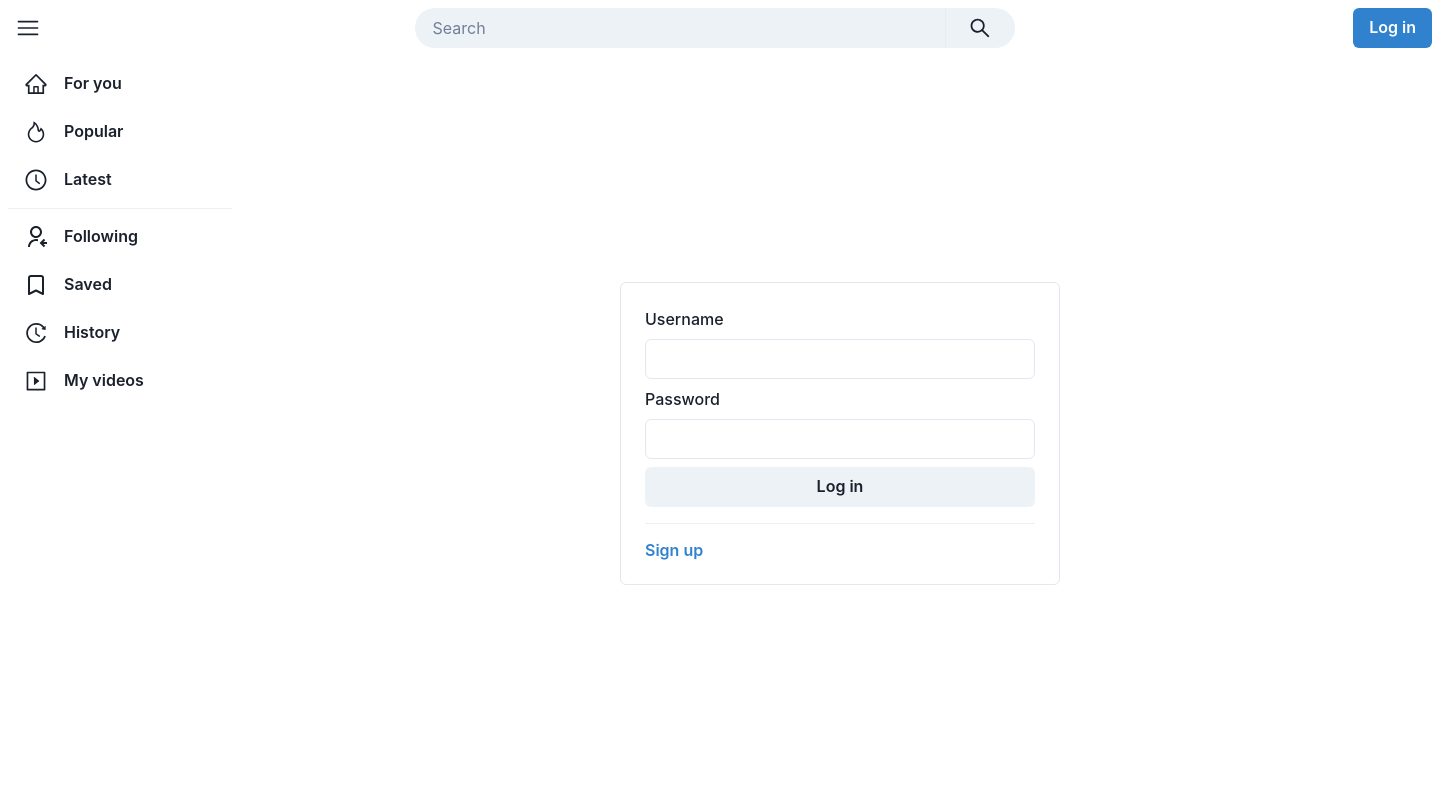
LoginPage › login form › username input › should show error message on submit if value is empty
Click the button "Log in" below "Password": (840, 486) [645,466,1035,506]
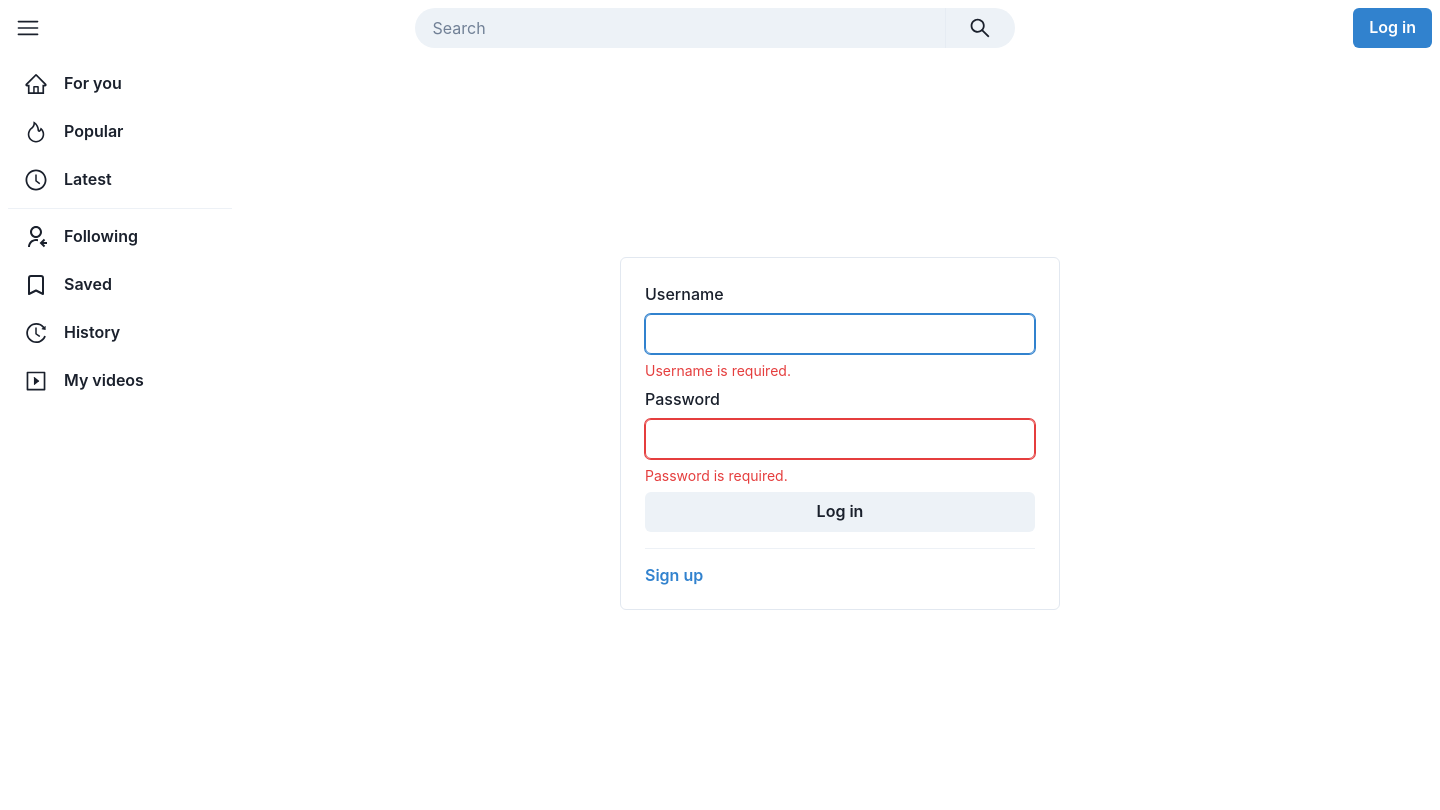
Now the message "Username is required." is shown, box [645,362,791,378]
